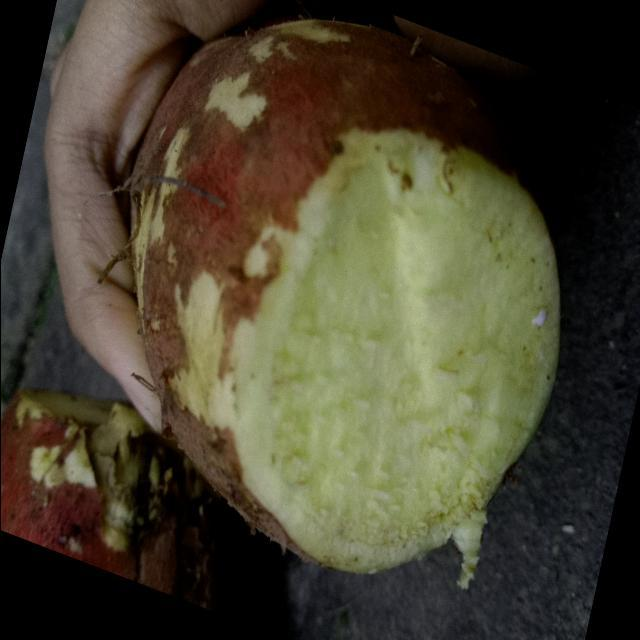Healthy Sweet Potato: (232, 130, 559, 587)
